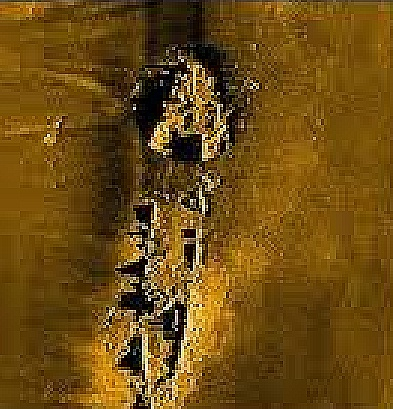ship: (115, 44, 235, 408)
